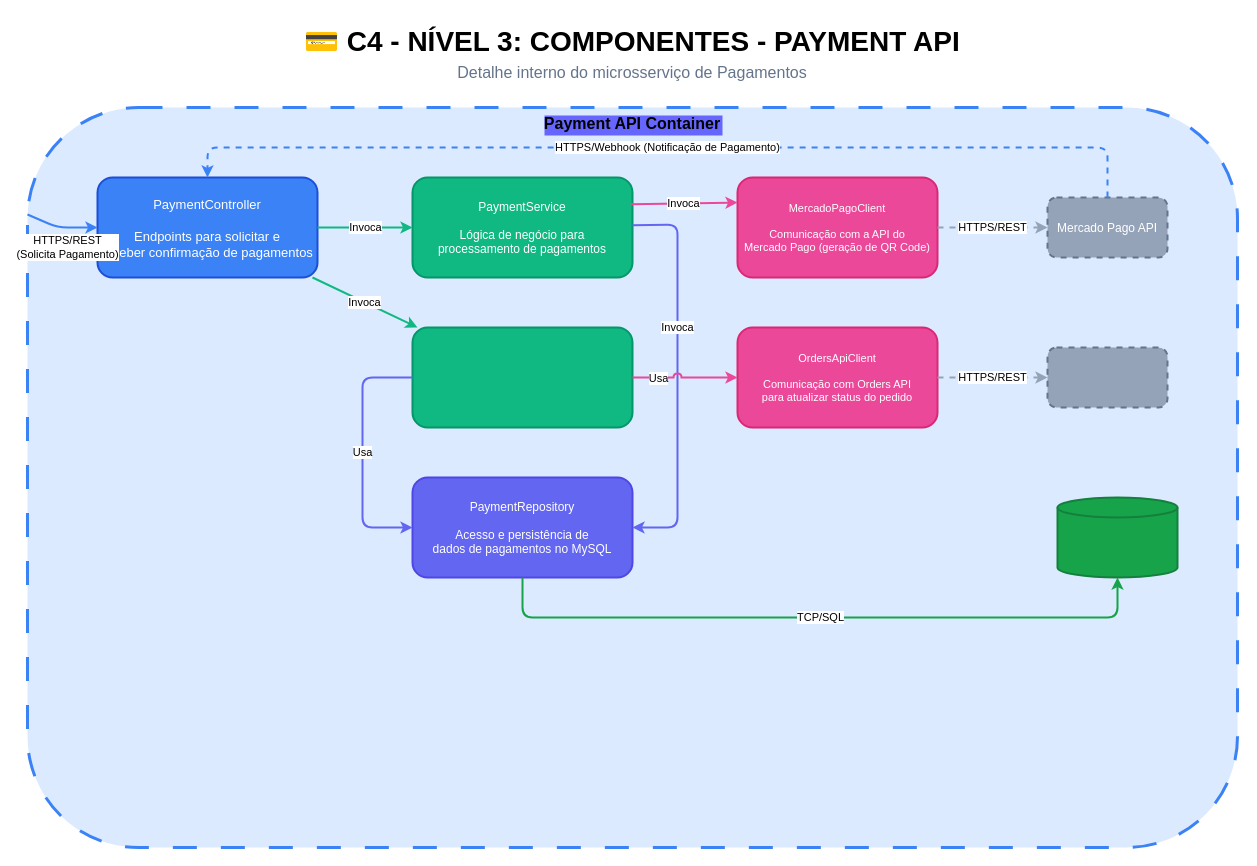
This 1257x866 diagram has some shape labels left out. Here are the shapes that lost their labels. From the top down, the centre of each, then its label:
At (522,377): "WebhookService Processa callbacks do Mercado Pago e atualiza status de pagamento".
At (1107,377): "Orders API".
At (1117,537): "MySQL (Payments DB)".
